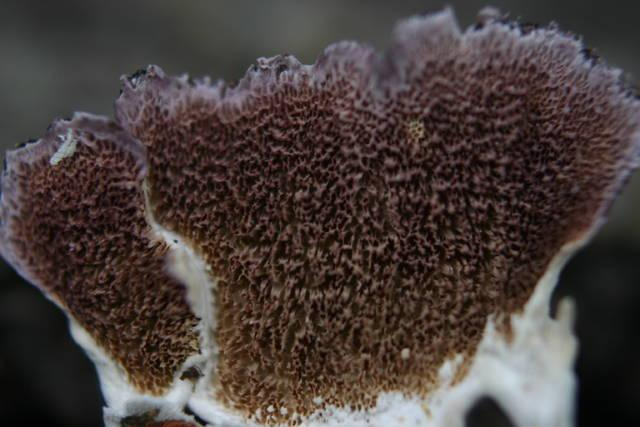poisonous_mushroom: (0, 4, 639, 426)
